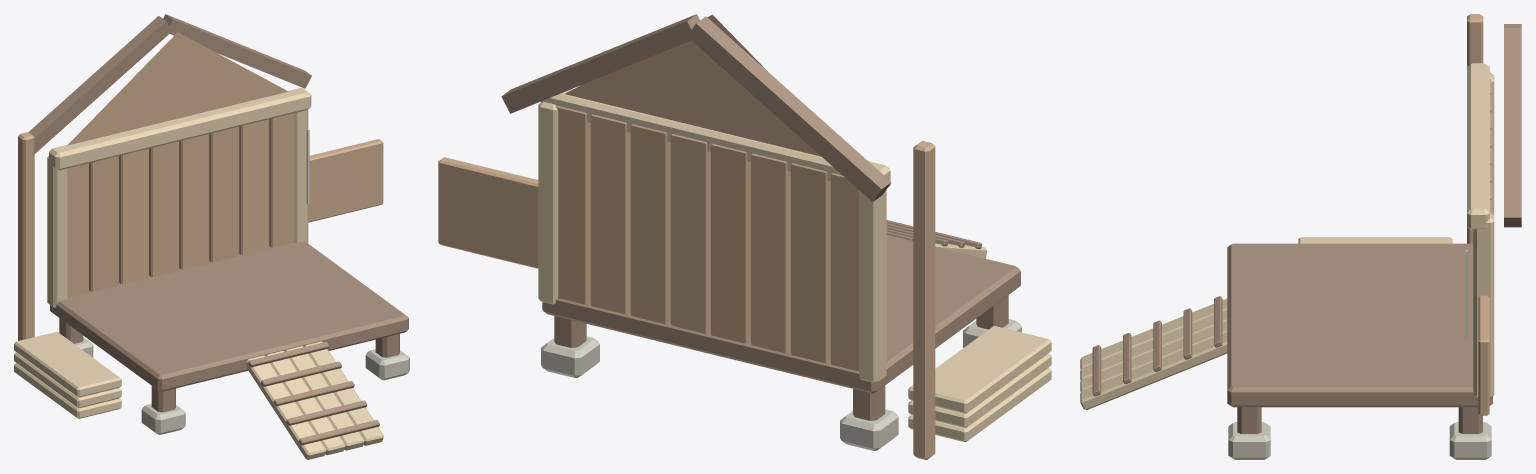
Rendered from crafted-coop-upgrading-back.glb.
The picture shows the model from 3 angles, left to right: view 1: azimuth 30°, elevation 25°; view 2: azimuth 150°, elevation 25°; view 3: azimuth 270°, elevation 25°; orthographic projection. The views are drawn at different scales.
Visible parts, largest first — view 1: floor, gable, header, nest-cheek, siding-4, siding-5, siding-6, siding-3, siding-1, siding-2, barge-board, extension-planks-2 (+21 smaller); view 2: floor, gable, nest-cheek, siding-3, siding-4, siding-5, siding-1, siding-2, siding-6, scaffold-post, barge-board, siding-7 (+13 smaller); view 3: floor, header, barge-board-2, ramp-board-3, corner-post-2, nest-cheek, stone-foot-3, stone-foot-2, ramp-board-1, ramp-board-2, ramp-board, extension-planks-2 (+9 smaller).
Part boxes in pixels (x1,y1,x2,y2): floor: (50,241,408,391); gable: (67,32,288,145); header: (49,88,311,170); nest-cheek: (308,139,383,222); siding-4: (179,134,209,269); siding-5: (209,126,239,262); siding-6: (239,119,269,254); siding-3: (149,141,179,276); siding-1: (89,156,118,291); siding-2: (119,148,148,284); barge-board: (28,16,172,153); extension-planks-2: (14,331,121,397); floor: (542,234,1020,393); gable: (565,14,820,156); nest-cheek: (438,157,538,268); siding-3: (710,143,750,343); siding-4: (670,134,710,333); siding-5: (630,124,670,323); siding-1: (790,163,830,362); siding-2: (750,153,790,353); siding-6: (590,114,630,314); scaffold-post: (913,141,935,459); barge-board: (687,16,891,201); siding-7: (555,105,590,304); floor: (1227,243,1492,407); header: (1467,63,1489,230); barge-board-2: (1504,28,1521,227); ramp-board-3: (1080,332,1227,409); corner-post-2: (1473,213,1494,397); nest-cheek: (1478,295,1489,415); stone-foot-3: (1228,422,1270,459); stone-foot-2: (1449,422,1491,459); ramp-board-1: (1080,310,1227,380); ramp-board-2: (1080,321,1227,391); ramp-board: (1080,298,1227,369); extension-planks-2: (1298,237,1452,243).
Size of the model in its own units: 2.38 by 1.81 by 1.99.
